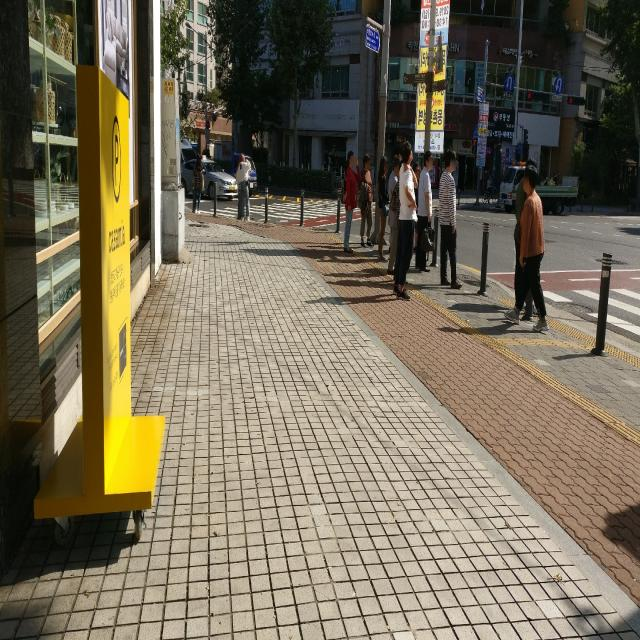횡단보도: (198, 199, 360, 223)
